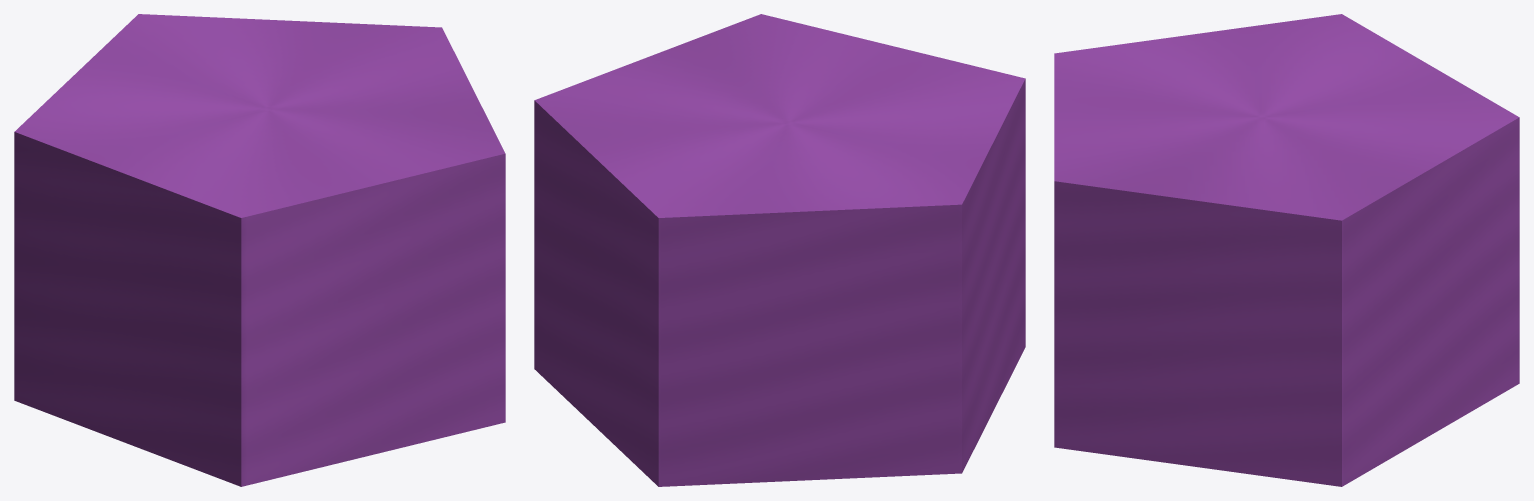
File: tier-t4.glb
The picture shows the model from 3 angles, left to right: view 1: azimuth 30°, elevation 25°; view 2: azimuth 150°, elevation 25°; view 3: azimuth 270°, elevation 25°; orthographic projection.
Visible parts, largest first — view 1: gem-t4-abyss-tempered; view 2: gem-t4-abyss-tempered; view 3: gem-t4-abyss-tempered.
Part boxes in pixels (x1,y1,x2,y2): gem-t4-abyss-tempered: (14, 14, 505, 486); gem-t4-abyss-tempered: (534, 14, 1025, 486); gem-t4-abyss-tempered: (1054, 14, 1519, 486).
Bounding box in the file's own units: 0.2663 × 0.16 × 0.2533.
1 material, 1 textured.
